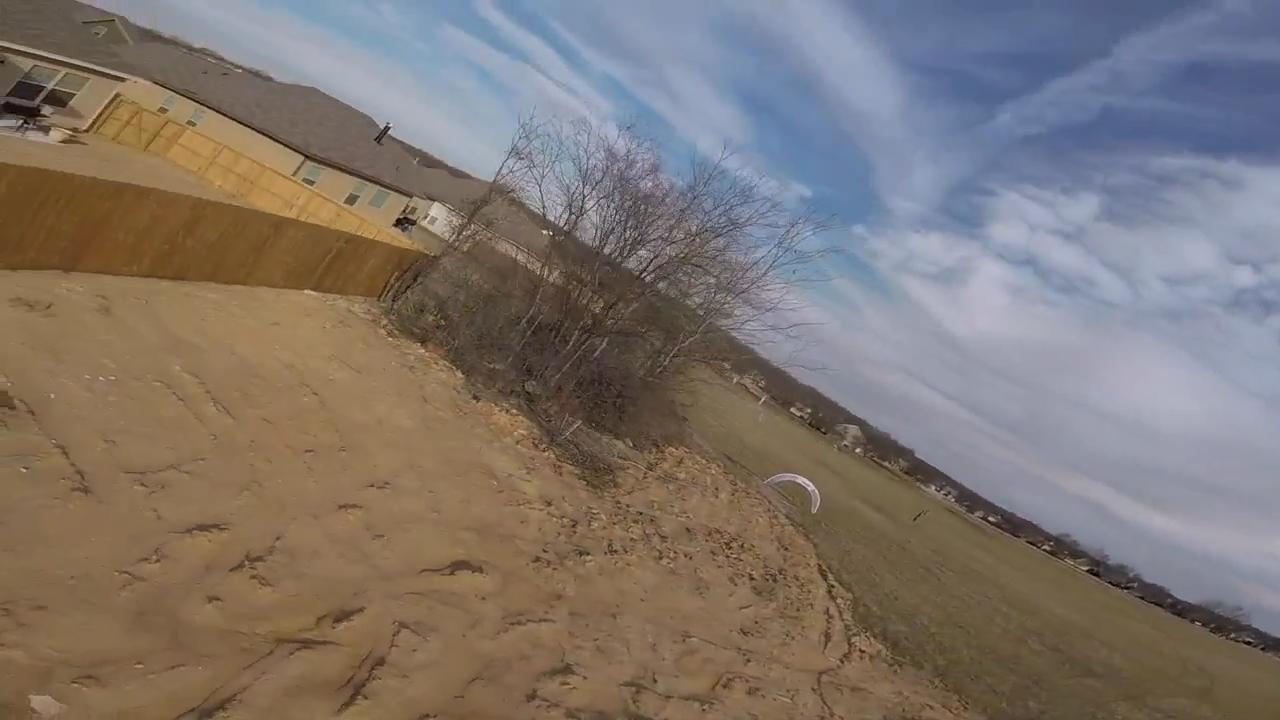gate: (762, 471, 820, 517)
